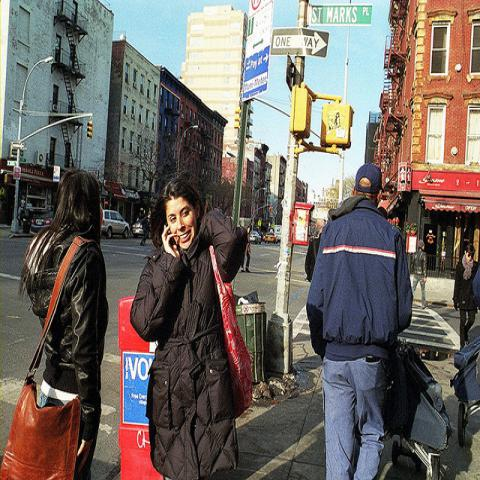car: (102, 211, 129, 237), (30, 213, 54, 232), (132, 220, 144, 237), (265, 233, 278, 244), (250, 231, 261, 244), (263, 233, 266, 241)
